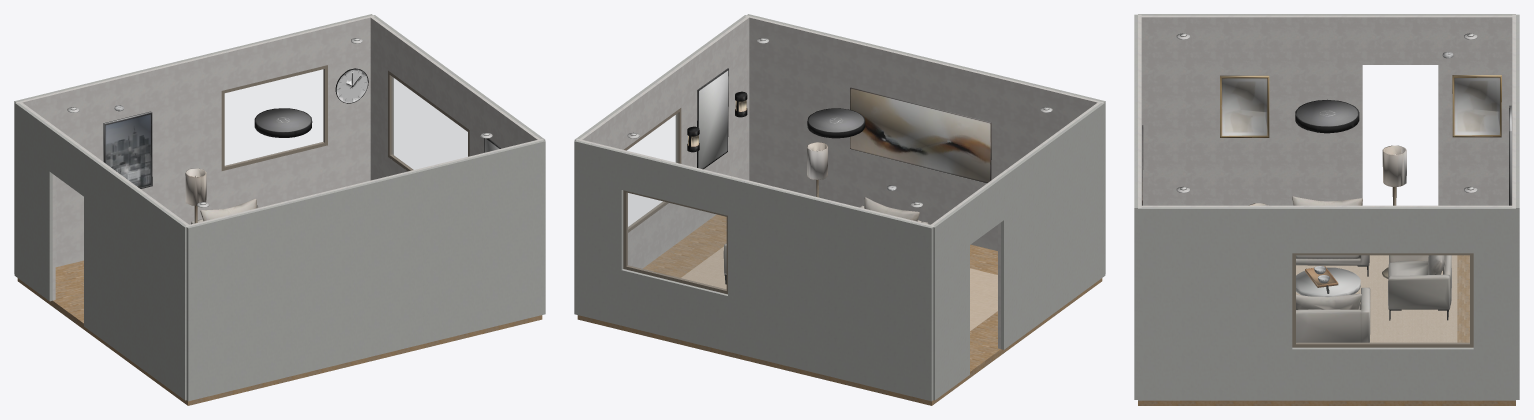
File: scene_named.glb
3 views of the same model, side by side, from view 1: azimuth 30°, elevation 25°; view 2: azimuth 150°, elevation 25°; view 3: azimuth 270°, elevation 25° (orthographic). The views are drawn at different scales.
Visible parts, largest first — view 1: south_wall_exterior_living_room/south_wall_exterior_living_r, north_wall_living_room/north_wall_living_room/geometry_0, west_wall_exterior_living_room/west_wall_exterior_living_roo, east_wall_living_room/east_wall_living_room/geometry_0, window_2_living_room/window_2_living_room/glass, window_1_living_room/window_1_living_room/glass, floor_living_room, photograph_print_0, window_2_living_room/window_2_living_room/frame, flush_mount_0, west_wall_living_room/west_wall_living_room/geometry_0, north_wall_exterior_living_room/north_wall_exterior_living_r (+6 smaller); view 2: north_wall_exterior_living_room/north_wall_exterior_living_r, south_wall_living_room/south_wall_living_room/geometry_0, west_wall_exterior_living_room/west_wall_exterior_living_roo, east_wall_living_room/east_wall_living_room/geometry_0, painting_0, window_2_living_room/window_2_living_room/glass, floor_living_room, mirror_0, rug_0, window_1_living_room/window_1_living_room/glass, flush_mount_0, window_2_living_room/window_2_living_room/frame (+7 smaller); view 3: east_wall_exterior_living_room/east_wall_exterior_living_roo, west_wall_living_room/west_wall_living_room/geometry_0, window_1_living_room/window_1_living_room/glass, rug_0, sofa_chair_2, sofa_chair_0, floor_living_room, print_0, print_1, window_1_living_room/window_1_living_room/frame, flush_mount_0, north_wall_exterior_living_room/north_wall_exterior_living_r (+8 smaller).
Part boxes in pixels (left/top/right/bottom): south_wall_exterior_living_room/south_wall_exterior_living_r: left=186, top=140, right=545, bottom=401; north_wall_living_room/north_wall_living_room/geometry_0: left=16, top=15, right=374, bottom=267; west_wall_exterior_living_room/west_wall_exterior_living_roo: left=14, top=102, right=186, bottom=400; east_wall_living_room/east_wall_living_room/geometry_0: left=370, top=17, right=539, bottom=180; window_2_living_room/window_2_living_room/glass: left=225, top=69, right=323, bottom=166; window_1_living_room/window_1_living_room/glass: left=391, top=76, right=467, bottom=169; floor_living_room: left=17, top=260, right=542, bottom=405; photograph_print_0: left=103, top=111, right=152, bottom=188; window_2_living_room/window_2_living_room/frame: left=221, top=65, right=327, bottom=170; flush_mount_0: left=254, top=108, right=312, bottom=137; west_wall_living_room/west_wall_living_room/geometry_0: left=20, top=102, right=188, bottom=300; north_wall_exterior_living_room/north_wall_exterior_living_r: left=14, top=14, right=372, bottom=273; north_wall_exterior_living_room/north_wall_exterior_living_r: left=574, top=140, right=933, bottom=401; south_wall_living_room/south_wall_living_room/geometry_0: left=745, top=15, right=1103, bottom=250; west_wall_exterior_living_room/west_wall_exterior_living_roo: left=933, top=102, right=1105, bottom=400; east_wall_living_room/east_wall_living_room/geometry_0: left=580, top=17, right=749, bottom=268; painting_0: left=850, top=87, right=991, bottom=183; window_2_living_room/window_2_living_room/glass: left=627, top=193, right=726, bottom=289; floor_living_room: left=577, top=214, right=1102, bottom=405; mirror_0: left=697, top=68, right=728, bottom=169; rug_0: left=681, top=246, right=997, bottom=331; window_1_living_room/window_1_living_room/glass: left=627, top=113, right=678, bottom=227; flush_mount_0: left=807, top=108, right=865, bottom=138; window_2_living_room/window_2_living_room/frame: left=623, top=190, right=727, bottom=294; east_wall_exterior_living_room/east_wall_exterior_living_roo: left=1138, top=207, right=1515, bottom=400; west_wall_living_room/west_wall_living_room/geometry_0: left=1141, top=15, right=1512, bottom=205; window_1_living_room/window_1_living_room/glass: left=1296, top=255, right=1469, bottom=343; rug_0: left=1296, top=255, right=1457, bottom=342; sofa_chair_2: left=1296, top=287, right=1370, bottom=342; sofa_chair_0: left=1388, top=255, right=1451, bottom=320; floor_living_room: left=1138, top=255, right=1515, bottom=405; print_0: left=1220, top=75, right=1269, bottom=137; print_1: left=1452, top=75, right=1501, bottom=137; window_1_living_room/window_1_living_room/frame: left=1292, top=253, right=1473, bottom=347; flush_mount_0: left=1295, top=99, right=1359, bottom=133; north_wall_exterior_living_room/north_wall_exterior_living_r: left=1516, top=14, right=1519, bottom=399.
Bounding box in the file's own units: 6.1 × 2.9 × 5.1.
Materials: 21 (19 with a texture image).
